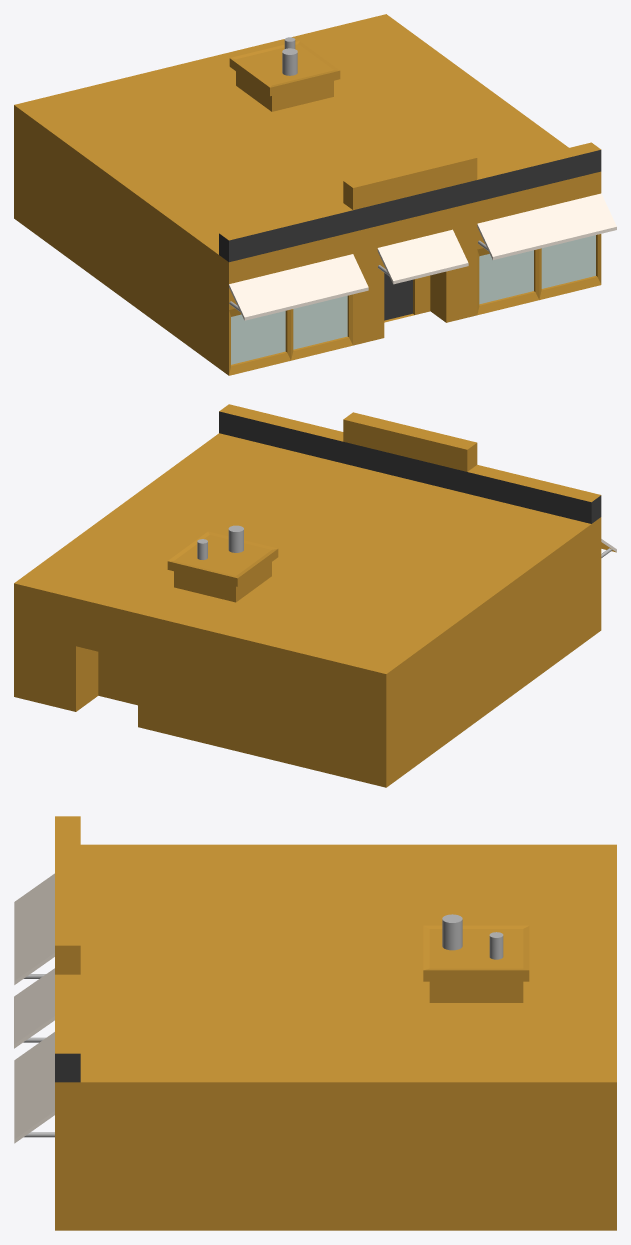
File: storefront1.fbx
The picture shows the model from 3 angles, top to bottom: view 1: azimuth 30°, elevation 25°; view 2: azimuth 150°, elevation 25°; view 3: azimuth 270°, elevation 25°; orthographic projection. The views are drawn at different scales.
Parts seen in each view (by area): view 1: pCube1; view 2: pCube1; view 3: pCube1, pCylinder7.
Boxes of the visible parts, x1,y1,x2,y2 form: pCube1: (14, 14, 616, 375); pCube1: (14, 404, 616, 787); pCube1: (14, 816, 616, 1230); pCylinder7: (442, 914, 462, 950).
Size of the model in its own units: 1540 by 636 by 1652.
